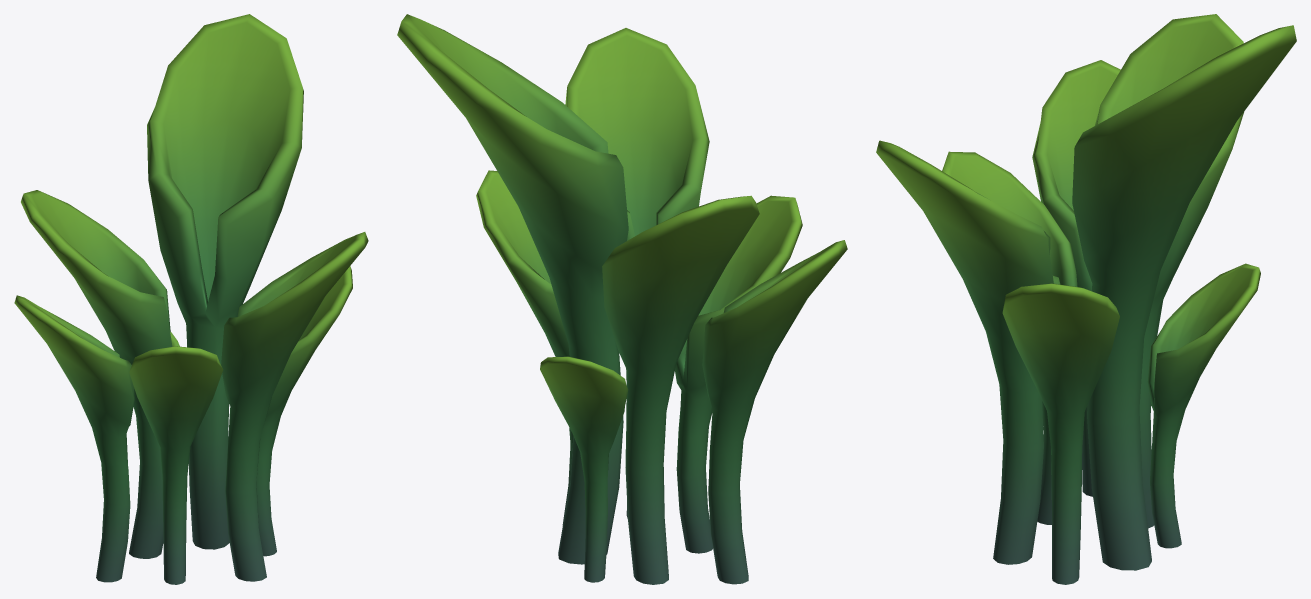
The model's file is Plants_007.fbx.
3 views of the same model, side by side, from view 1: azimuth 30°, elevation 25°; view 2: azimuth 150°, elevation 25°; view 3: azimuth 270°, elevation 25° (orthographic). The views are drawn at different scales.
Parts seen in each view (by area): view 1: Plants.007; view 2: Plants.007; view 3: Plants.007.
Boxes of the visible parts, left/top/right/bottom form: Plants.007: left=14, top=14, right=368, bottom=584; Plants.007: left=397, top=14, right=847, bottom=584; Plants.007: left=876, top=14, right=1296, bottom=584.
Bounding box in the file's own units: 550 × 769 × 503.
